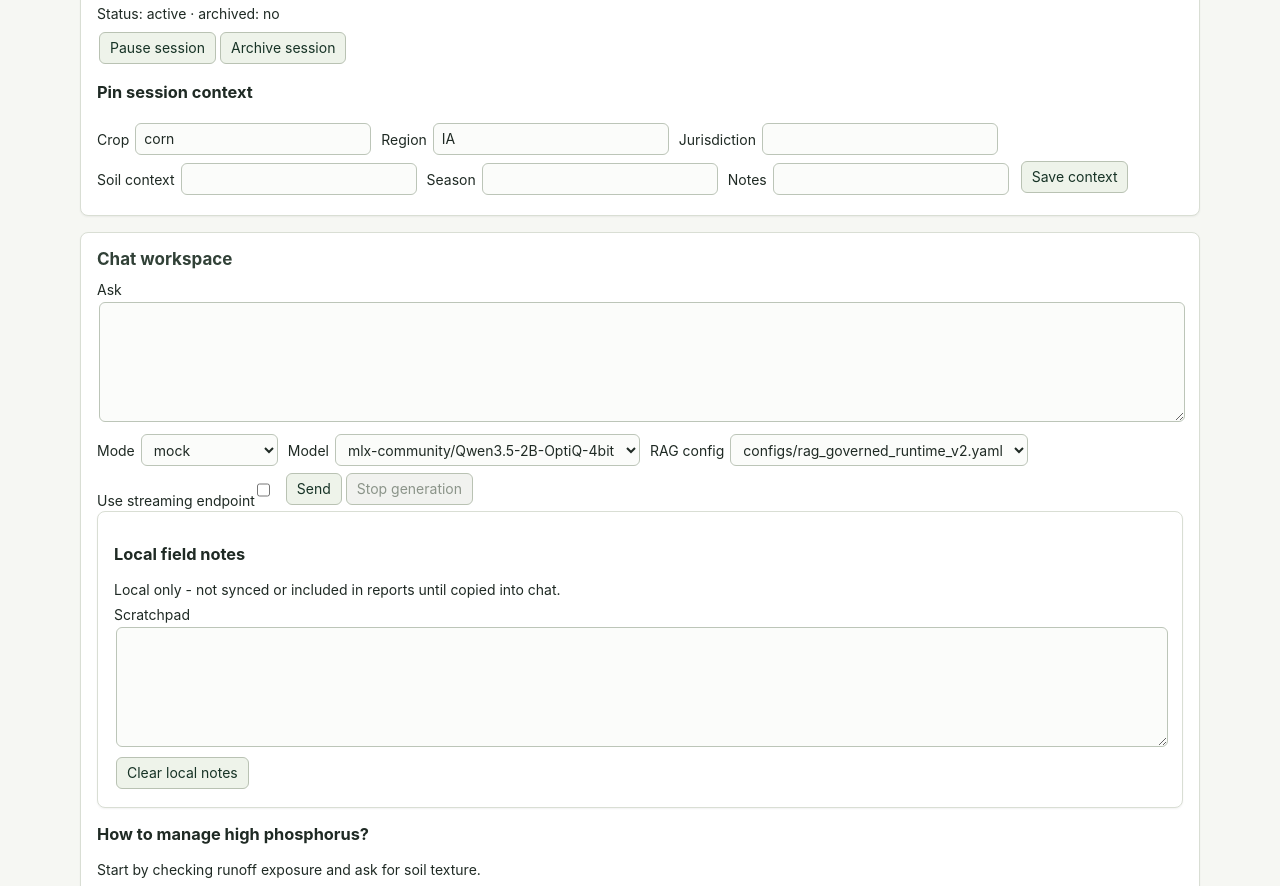
cockpit app › submits chat prompt and shows answer
(page scrolled)
Step 1. Select "agronomic_rag" in the dropdown with test id "mode-select" → (209, 450), box left=141, top=434, right=278, bottom=466
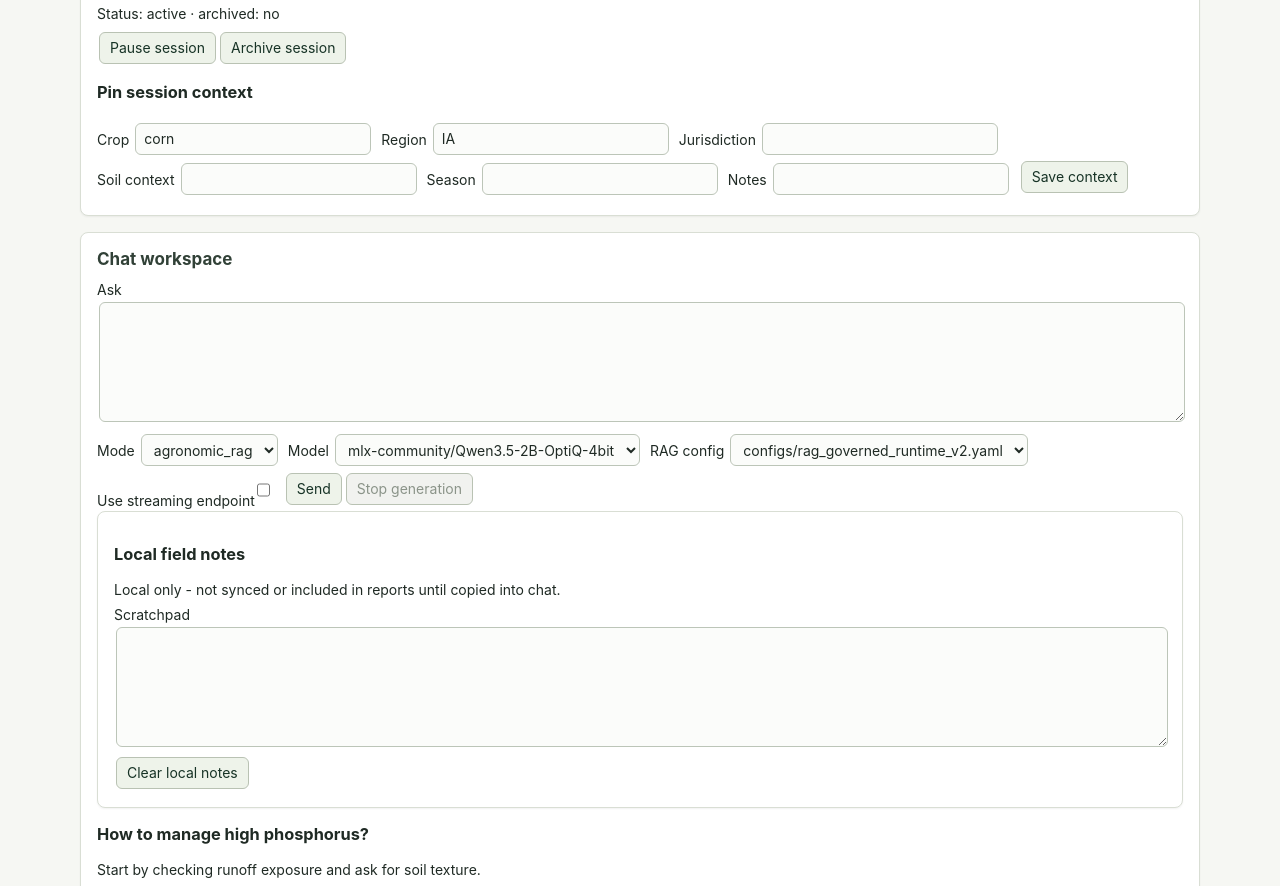
Step 2. Type "How much nitrogen?" into the text box with test id "chat-input" → (642, 362), box left=99, top=302, right=1185, bottom=422
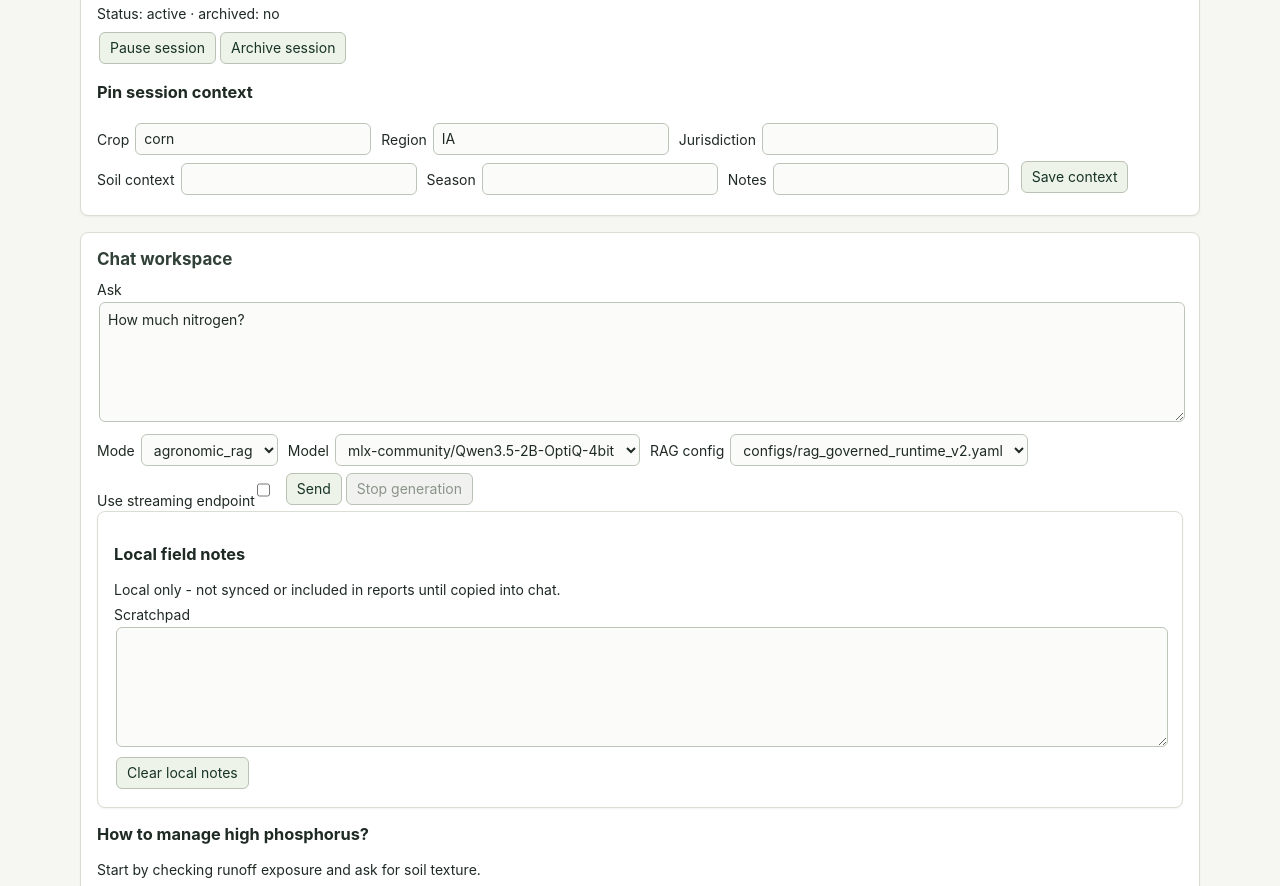
Step 3. Select "mlx-community/Qwen3.5-2B-8bit" in the dropdown with test id "chat-model" → (488, 450), box left=335, top=434, right=640, bottom=466
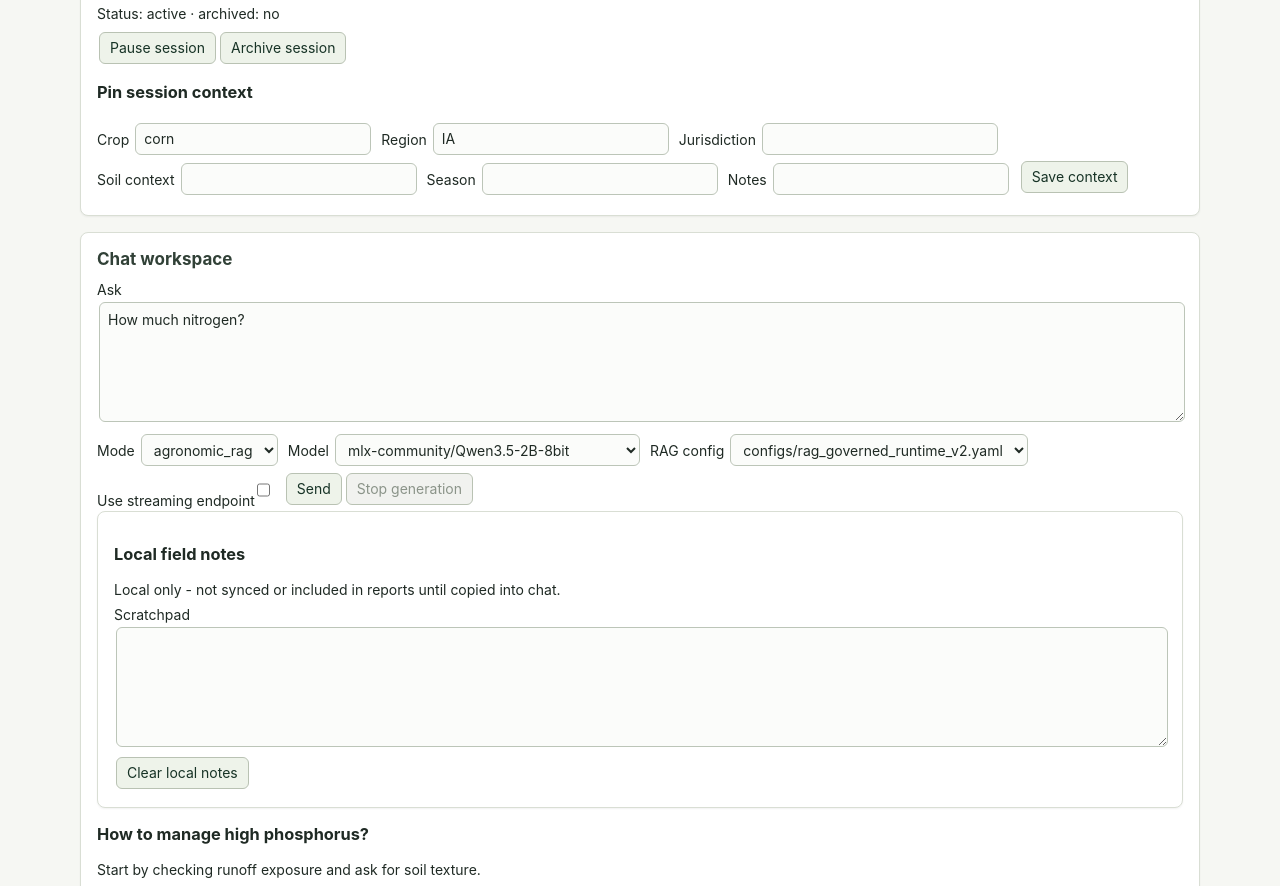
Step 4. Select "configs/rag_governed_runtime_v2.yaml" in the dropdown with test id "chat-rag-config" → (879, 450), box left=730, top=434, right=1028, bottom=466
Step 5. Click the button with test id "send-turn" → (314, 489), box left=286, top=473, right=342, bottom=505
(page scrolled)
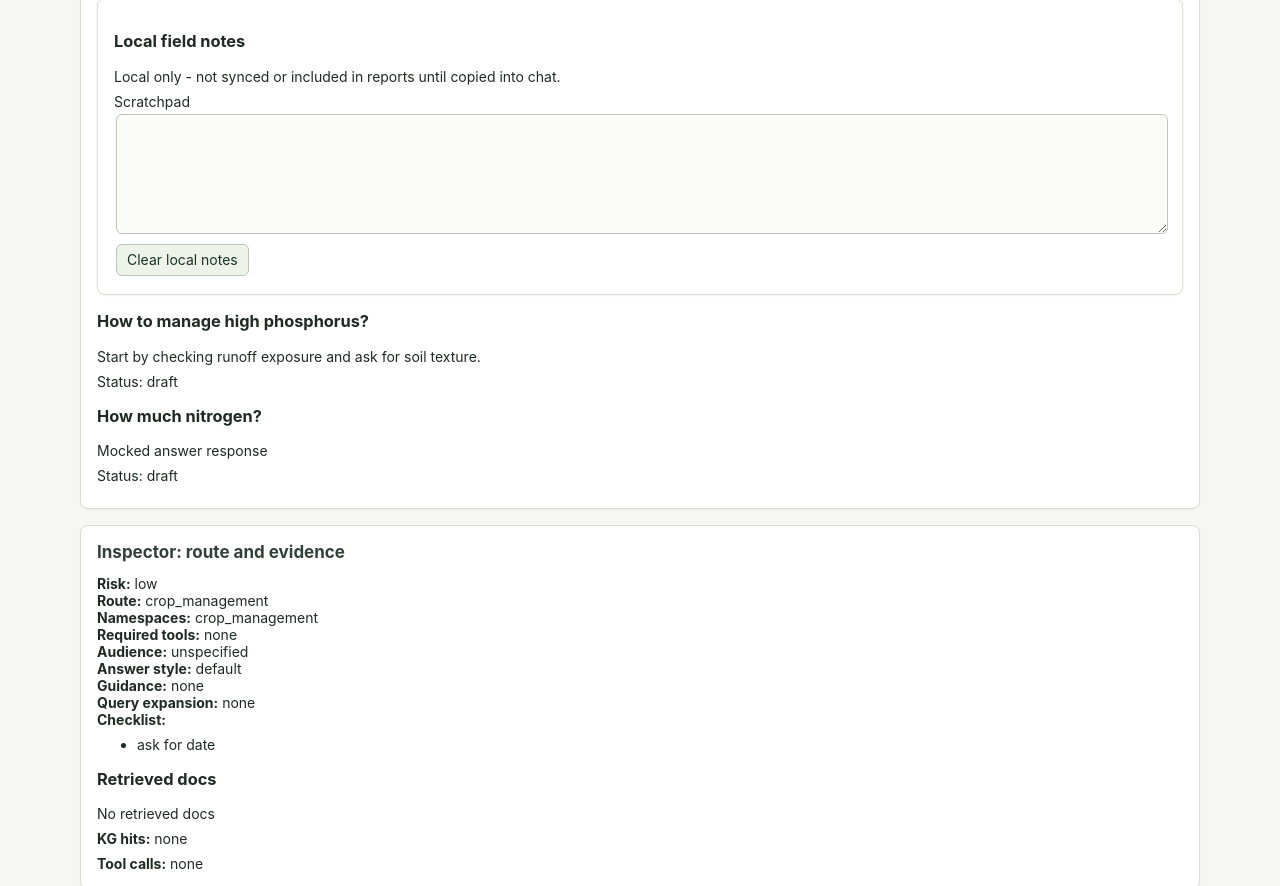
Now the text "Mocked answer response" is shown, box left=97, top=442, right=268, bottom=459
